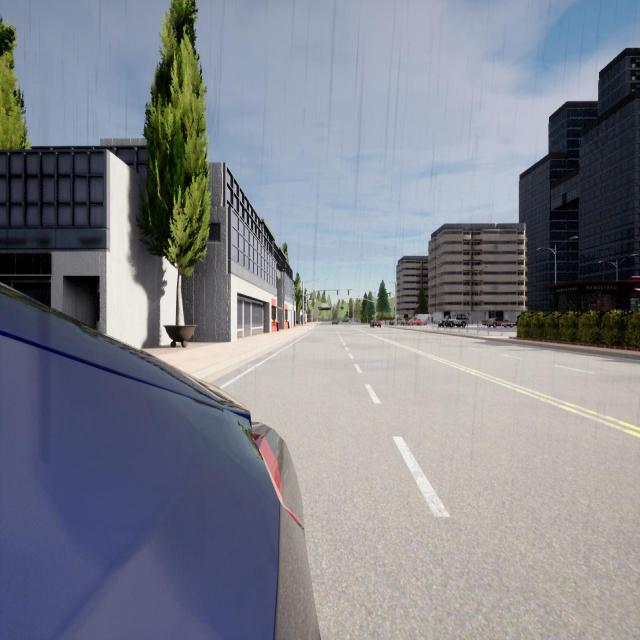Vehicle: (0, 284, 319, 638), (482, 317, 516, 328), (448, 314, 467, 328), (414, 314, 432, 325), (389, 317, 405, 326), (438, 316, 449, 328), (407, 318, 422, 326), (370, 319, 381, 328), (332, 318, 338, 325)
traffic_light: (389, 292, 391, 297), (374, 309, 376, 314), (348, 289, 349, 295), (324, 290, 325, 295), (337, 290, 338, 295), (394, 306, 395, 310), (359, 298, 360, 302), (342, 298, 342, 302), (350, 299, 350, 302)
